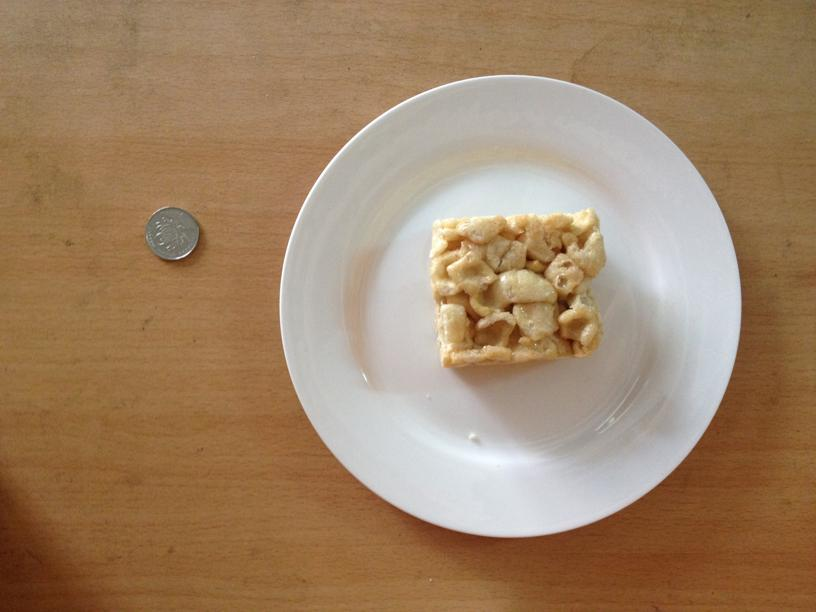coin: (142, 206, 201, 263)
sachima: (423, 214, 601, 368)
